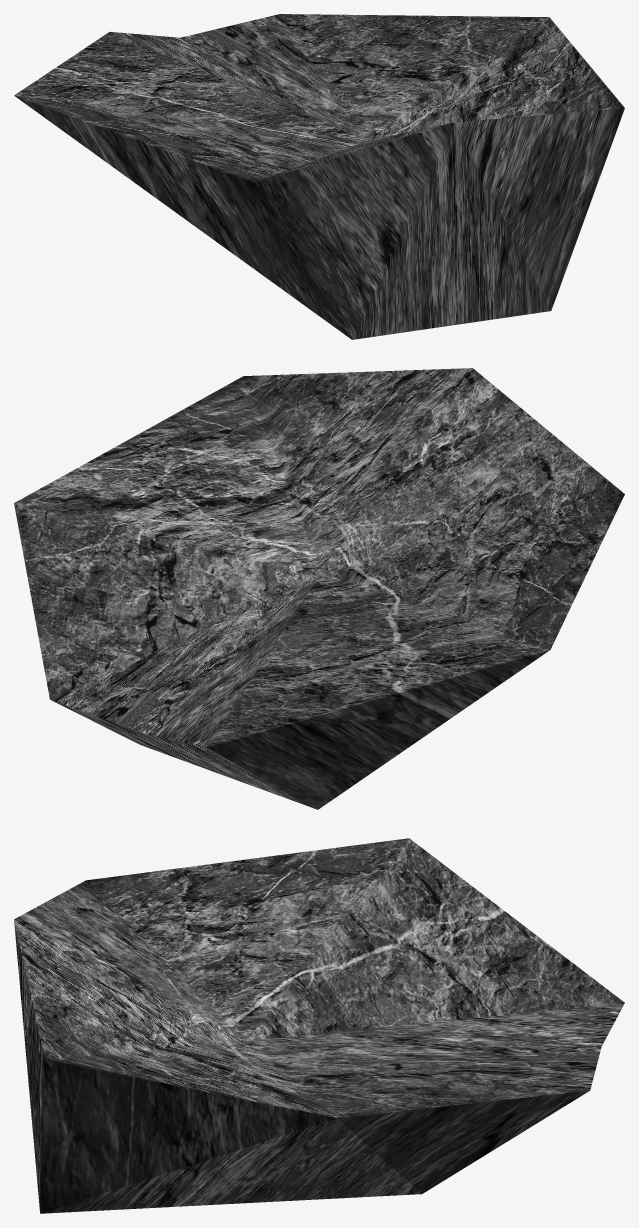
The model's file is piso_portal.glb.
3 views of the same model, one above another, from view 1: azimuth 30°, elevation 25°; view 2: azimuth 150°, elevation 25°; view 3: azimuth 270°, elevation 25° (orthographic). The views are drawn at different scales.
Parts seen in each view (by area): view 1: pisote_portal; view 2: pisote_portal; view 3: pisote_portal.
Part boxes in pixels (x1=…): pisote_portal: x1=14, y1=14, x2=624, y2=339; pisote_portal: x1=14, y1=368, x2=624, y2=809; pisote_portal: x1=14, y1=838, x2=624, y2=1213.
Bounding box in the file's own units: 19.78 × 8.45 × 19.67.
Materials: 1 (1 with a texture image).
